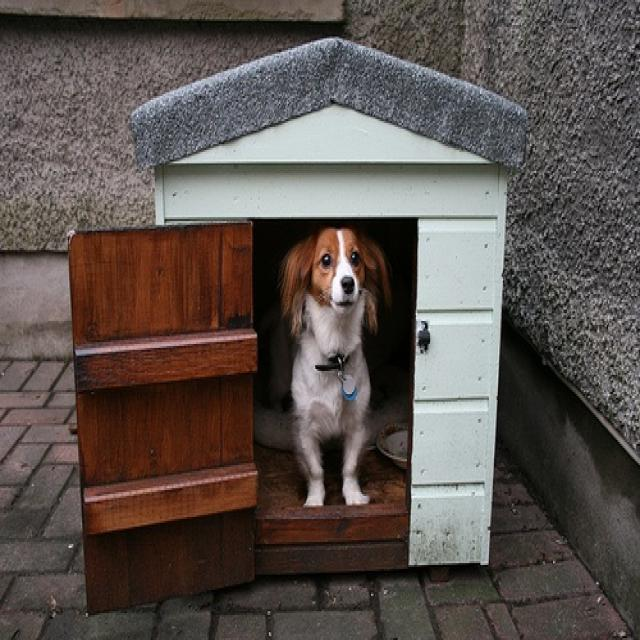dog: (278, 226, 390, 504)
